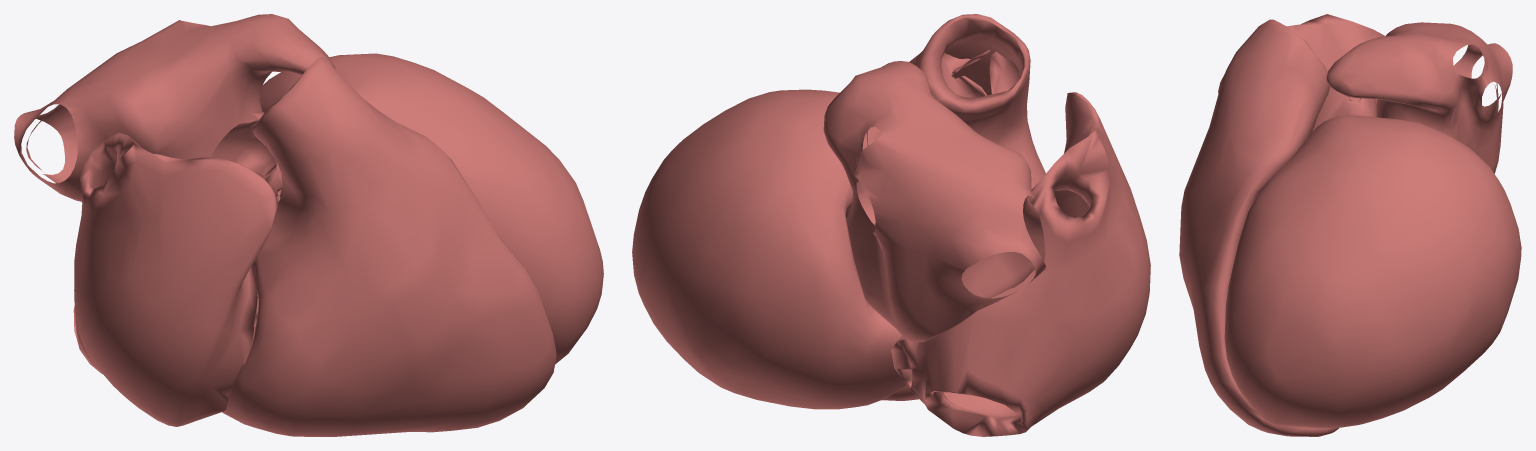
File: vh_f_heart-20.glb
3 views of the same model, side by side, from view 1: azimuth 30°, elevation 25°; view 2: azimuth 150°, elevation 25°; view 3: azimuth 270°, elevation 25° (orthographic). The views are drawn at different scales.
Visible parts, largest first — view 1: VH_F_right_ventricle, VH_F_right_cardiac_atrium, VH_F_left_ventricle, VH_F_left_cardiac_atrium, VH_F_aortic_valve; view 2: VH_F_left_ventricle, VH_F_right_cardiac_atrium, VH_F_left_cardiac_atrium, VH_F_right_ventricle, VH_F_pulmonary_valve; view 3: VH_F_left_ventricle, VH_F_right_ventricle, VH_F_left_cardiac_atrium, VH_F_right_cardiac_atrium, VH_F_aortic_valve.
Boxes of the visible parts, left/top/right/bottom form: VH_F_right_ventricle: left=222, top=57, right=556, bottom=436; VH_F_right_cardiac_atrium: left=73, top=133, right=278, bottom=426; VH_F_left_ventricle: left=259, top=53, right=603, bottom=364; VH_F_left_cardiac_atrium: left=14, top=14, right=335, bottom=201; VH_F_aortic_valve: left=210, top=111, right=282, bottom=202; VH_F_left_ventricle: left=632, top=89, right=906, bottom=409; VH_F_right_cardiac_atrium: left=891, top=92, right=1150, bottom=436; VH_F_left_cardiac_atrium: left=823, top=61, right=1046, bottom=341; VH_F_right_ventricle: left=881, top=14, right=1045, bottom=400; VH_F_pulmonary_valve: left=941, top=50, right=1019, bottom=97; VH_F_left_ventricle: left=1224, top=115, right=1521, bottom=428; VH_F_right_ventricle: left=1179, top=19, right=1338, bottom=436; VH_F_left_cardiac_atrium: left=1326, top=22, right=1512, bottom=173; VH_F_right_cardiac_atrium: left=1218, top=14, right=1384, bottom=103; VH_F_aortic_valve: left=1312, top=87, right=1376, bottom=131.
Bounding box in the file's own units: 0.1426 × 0.1098 × 0.1014.
